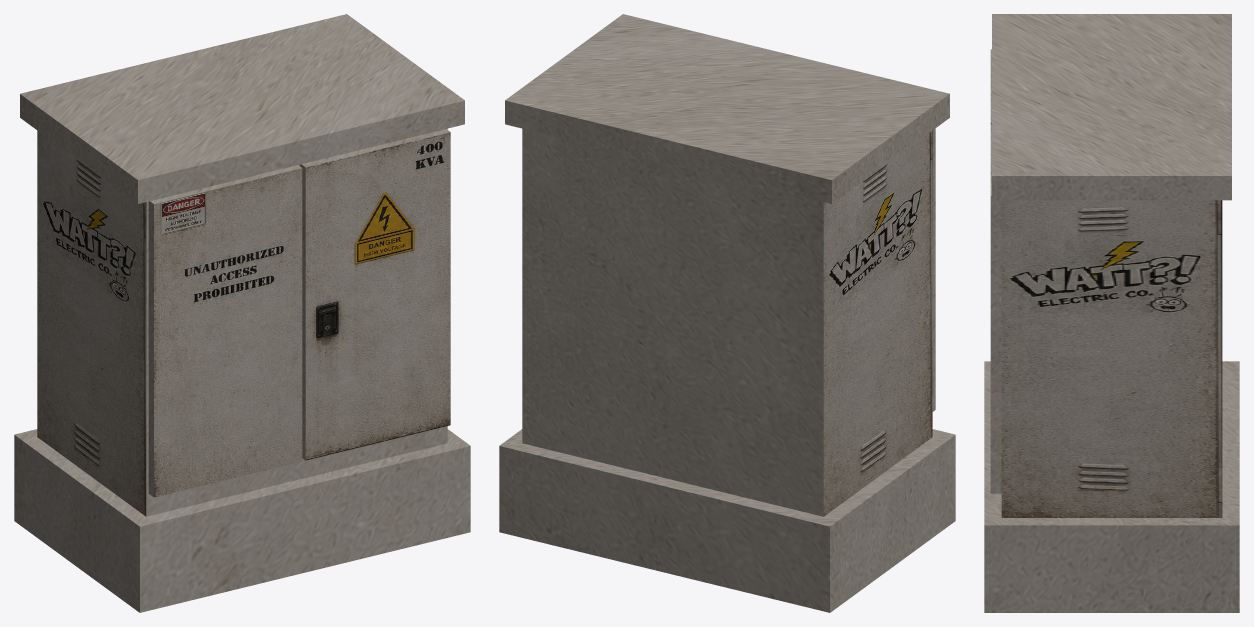
File: trafo yeni.fbx
3 views of the same model, side by side, from view 1: azimuth 30°, elevation 25°; view 2: azimuth 150°, elevation 25°; view 3: azimuth 270°, elevation 25° (orthographic).
Parts seen in each view (by area): view 1: Plane.003; view 2: Plane.003; view 3: Plane.003.
Boxes of the visible parts, x1,y1,x2,y2 form: Plane.003: (14, 14, 470, 612); Plane.003: (499, 14, 955, 612); Plane.003: (984, 14, 1239, 612).
Size of the model in its own units: 114 by 141 by 74.89.
1 material, 1 textured.
